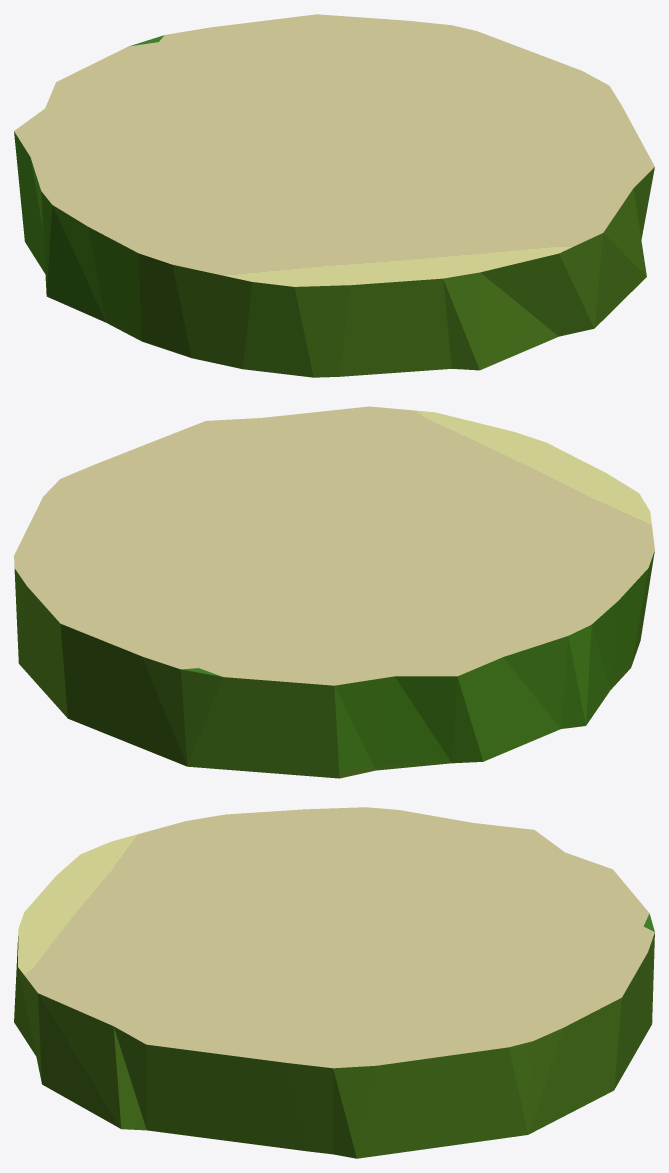
File: cucumber-03.glb
The picture shows the model from 3 angles, top to bottom: view 1: azimuth 30°, elevation 25°; view 2: azimuth 150°, elevation 25°; view 3: azimuth 270°, elevation 25°; orthographic projection. The views are drawn at different scales.
Visible parts, largest first — view 1: world; view 2: world; view 3: world.
Boxes of the visible parts, bbox=[...] form: world: bbox=[14, 14, 654, 377]; world: bbox=[14, 406, 654, 778]; world: bbox=[14, 807, 654, 1158].
Size of the model in its own units: 0.0389 by 0.00662 by 0.0404.
1 material, 1 textured.
